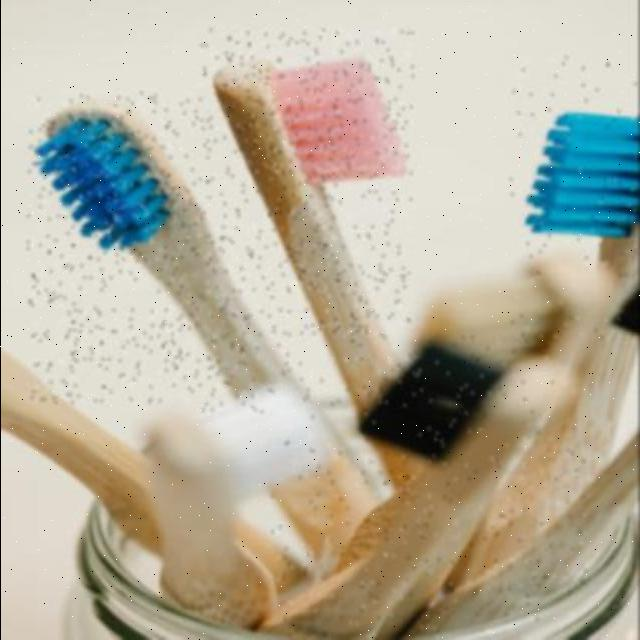toothbrush: (268, 336, 586, 640), (197, 30, 413, 412), (28, 93, 286, 403), (510, 55, 640, 341)
